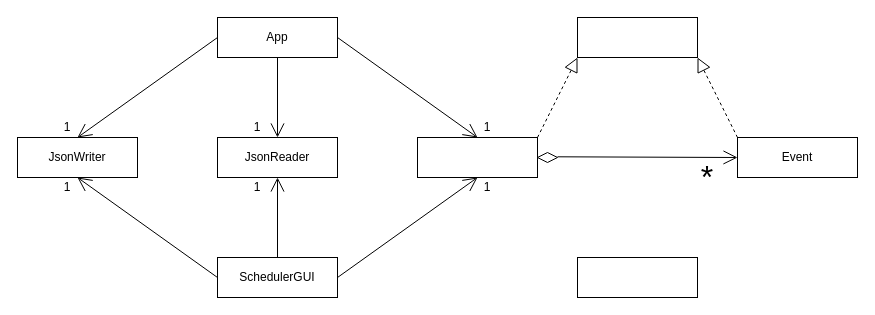
The diagram is 875 pixels wide and 315 high, and some of its shapes have lost their labels. The box of each missing label's shape, as (x1, y1, x2, y2) in pixels:
<<Interface>> Writable: (576, 16, 698, 58)
Main: (576, 256, 698, 298)
Schedule: (416, 136, 538, 178)
